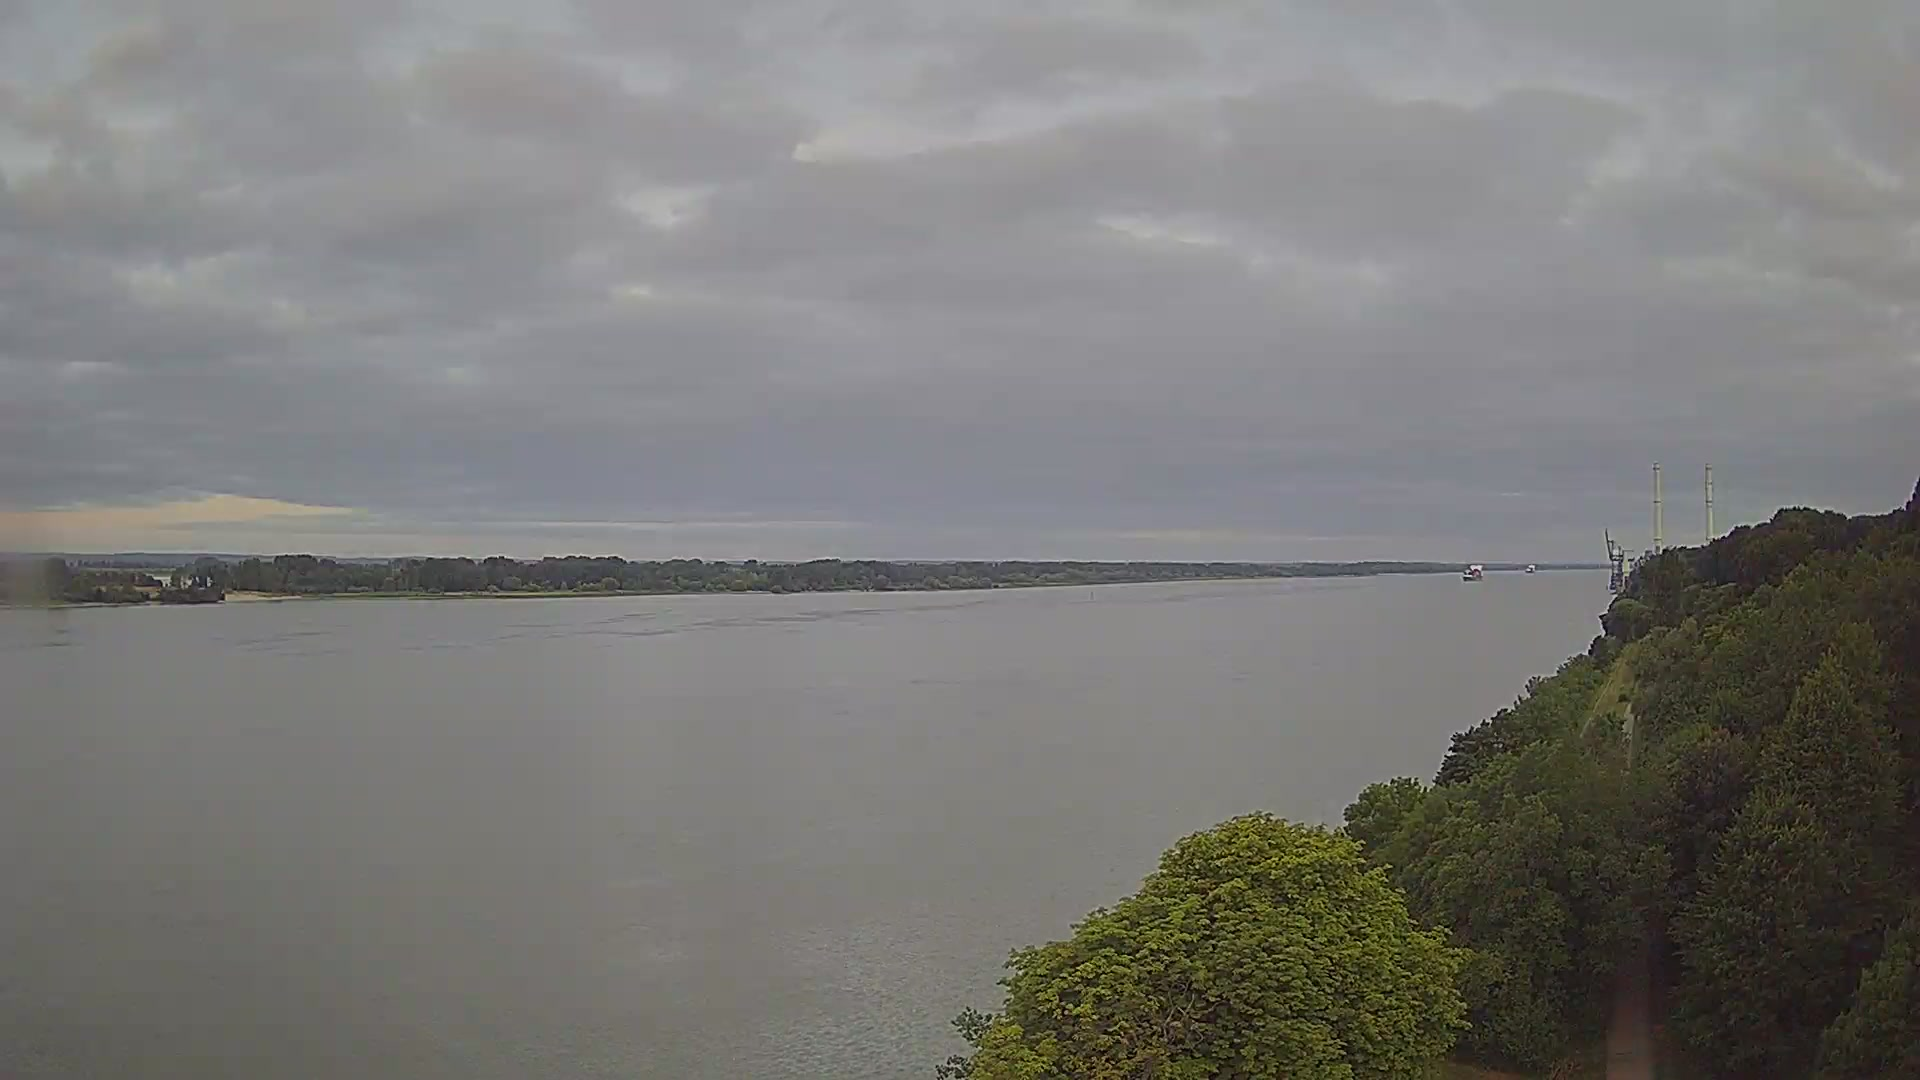sea: (1462, 563, 1484, 580), (1524, 563, 1536, 572)
